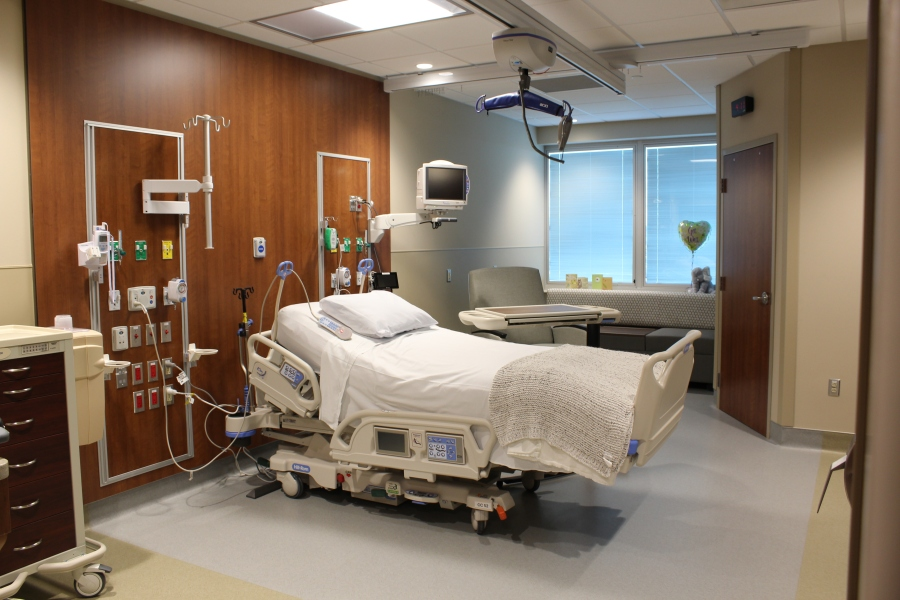bedrail: (330, 407, 496, 480), (246, 332, 321, 418)
bedside_monitor: (418, 158, 471, 211)
chair: (466, 267, 589, 351)
door_handle: (815, 447, 851, 520), (750, 292, 770, 303)
foot_board: (632, 328, 703, 467)
handle: (4, 366, 37, 381), (4, 385, 37, 400), (5, 415, 38, 430), (10, 496, 43, 511), (10, 456, 43, 471), (14, 537, 47, 552)
hospital_bed: (249, 291, 702, 536)
iv_pole: (182, 110, 233, 210)
medical_drawer: (1, 322, 112, 600)
overbed_table: (459, 301, 623, 346)
sofa: (548, 290, 715, 386)
